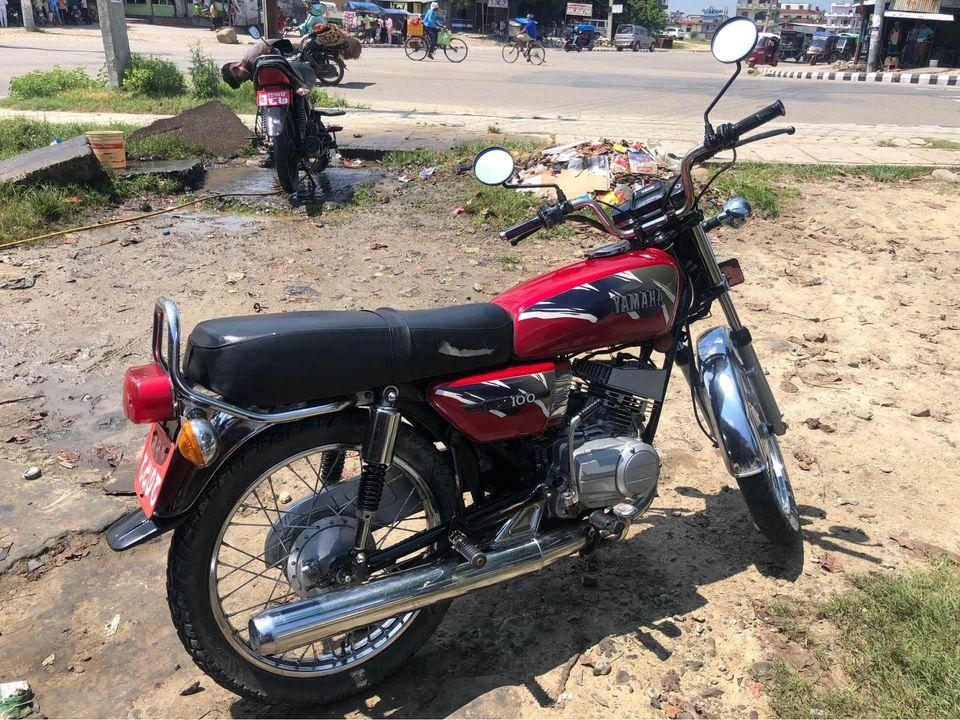bike: (104, 92, 813, 713), (231, 26, 334, 188)
